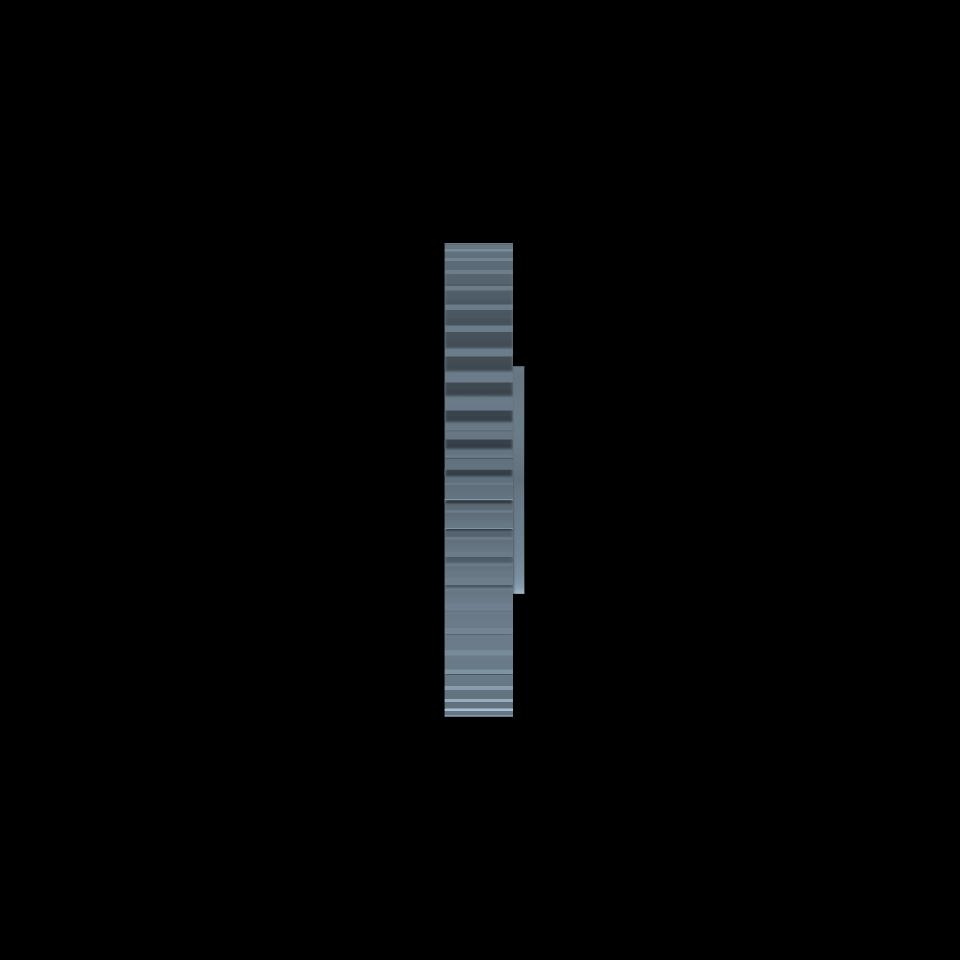Straight: (445, 242, 511, 715)
